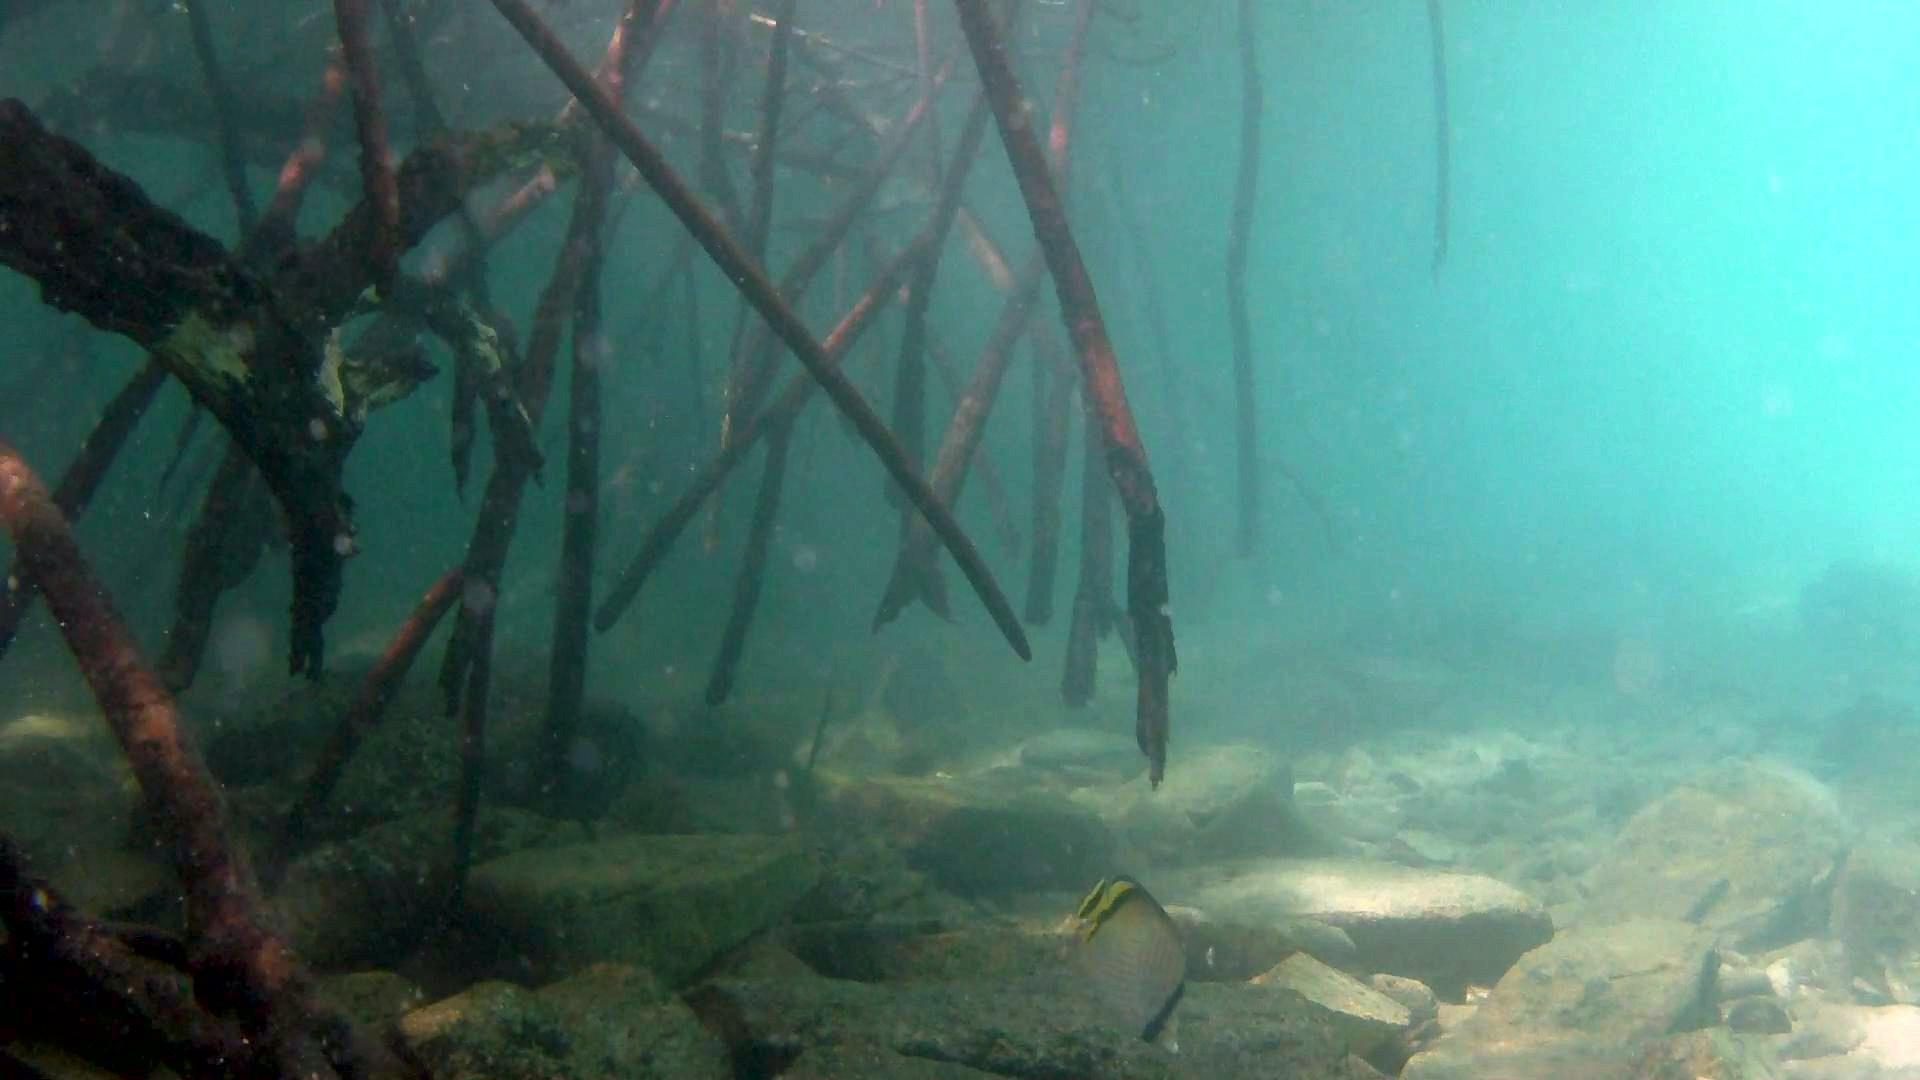chaetodon vagabundus: (1069, 866, 1191, 1058)
